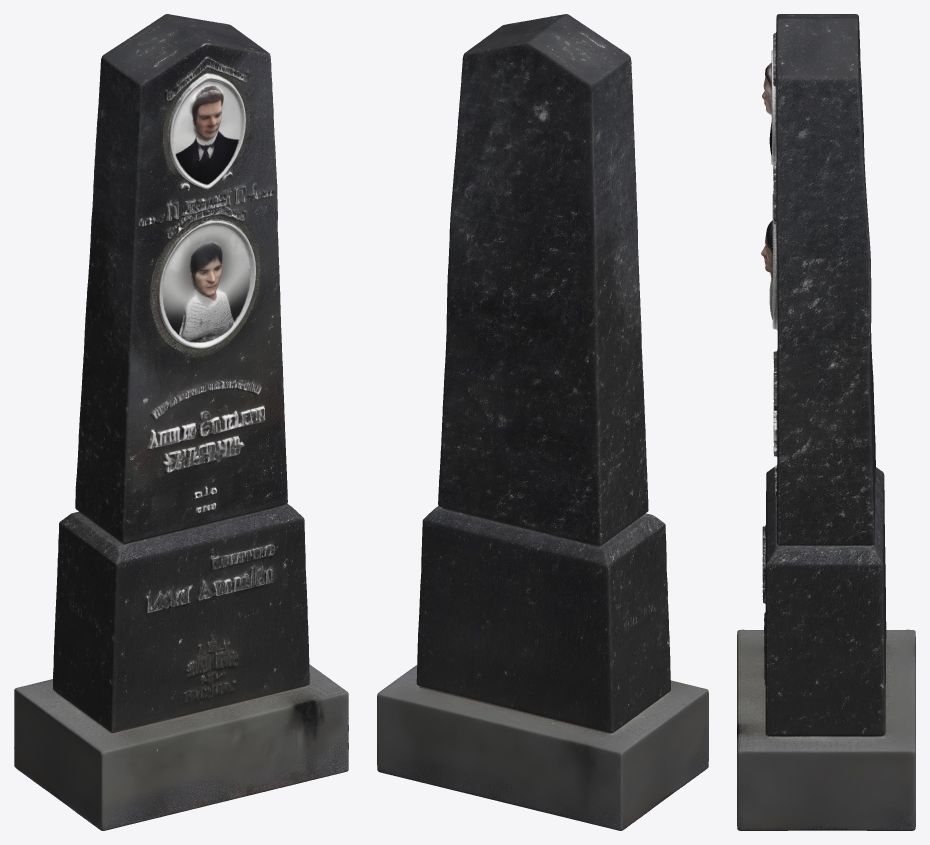
Rendered from milutin-obradovic-grob.glb.
The picture shows the model from 3 angles, left to right: view 1: azimuth 30°, elevation 25°; view 2: azimuth 150°, elevation 25°; view 3: azimuth 270°, elevation 25°; orthographic projection.
Bounding box in the file's own units: 0.6609 × 1.9 × 0.4091.
Materials: 1 (1 with a texture image).
